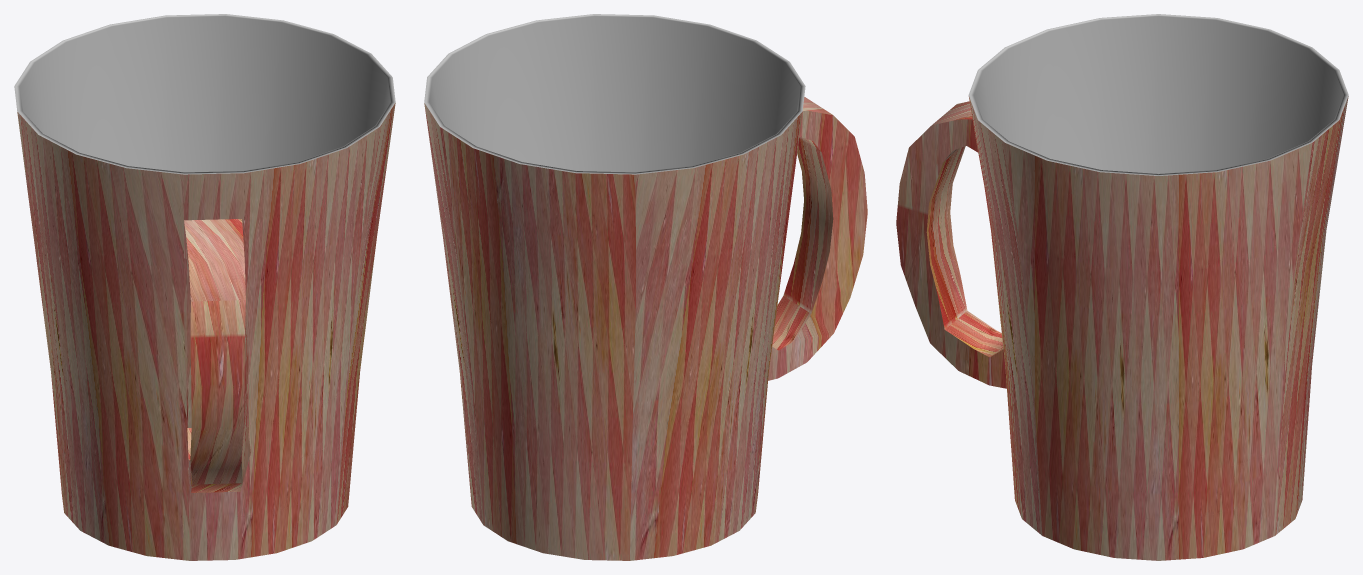
Rendered from cup.fbx.
The picture shows the model from 3 angles, left to right: view 1: azimuth 30°, elevation 25°; view 2: azimuth 150°, elevation 25°; view 3: azimuth 270°, elevation 25°; orthographic projection.
Visible parts, largest first — view 1: pCylinder1; view 2: pCylinder1; view 3: pCylinder1.
Boxes of the visible parts, bbox=[...] form: pCylinder1: bbox=[14, 14, 395, 560]; pCylinder1: bbox=[424, 14, 867, 560]; pCylinder1: bbox=[896, 14, 1348, 560].
Size of the model in its own units: 2.57 by 3 by 3.04.
Materials: 2 (1 with a texture image).
